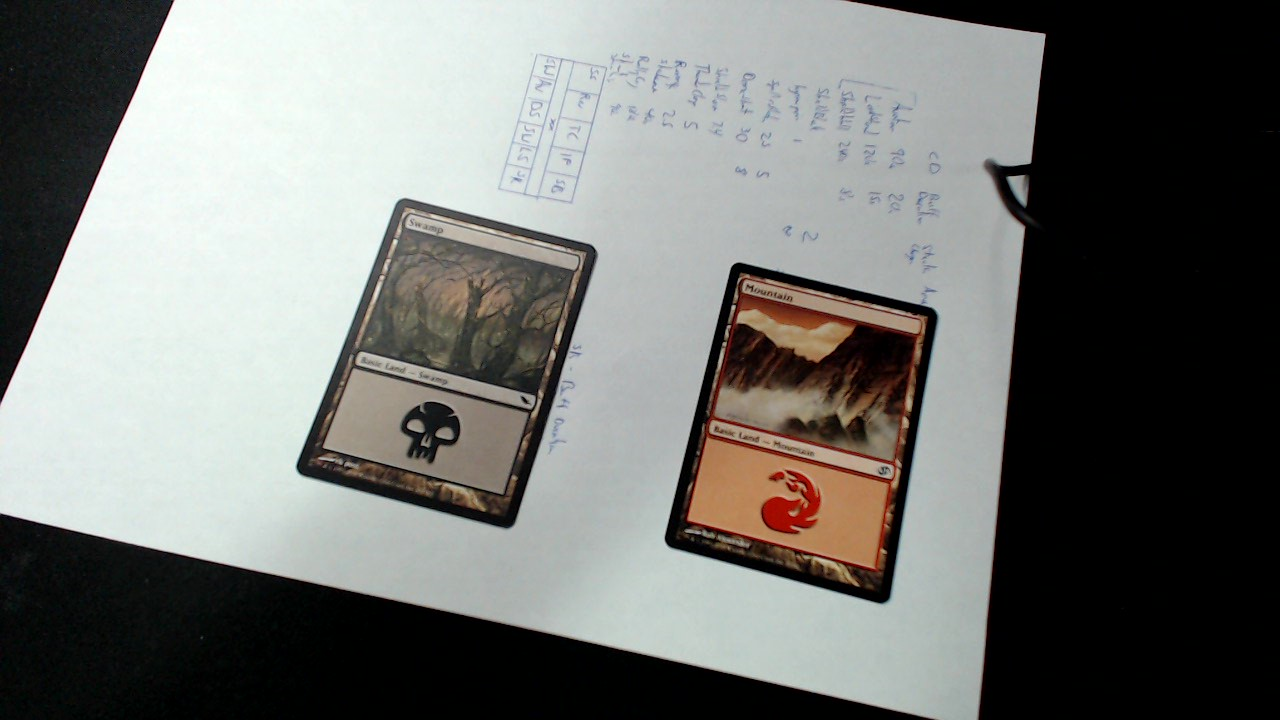MTG Card: (293, 195, 600, 535), (659, 255, 939, 612)
